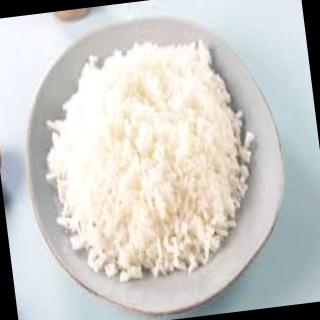Nasi: (30, 27, 272, 292)
